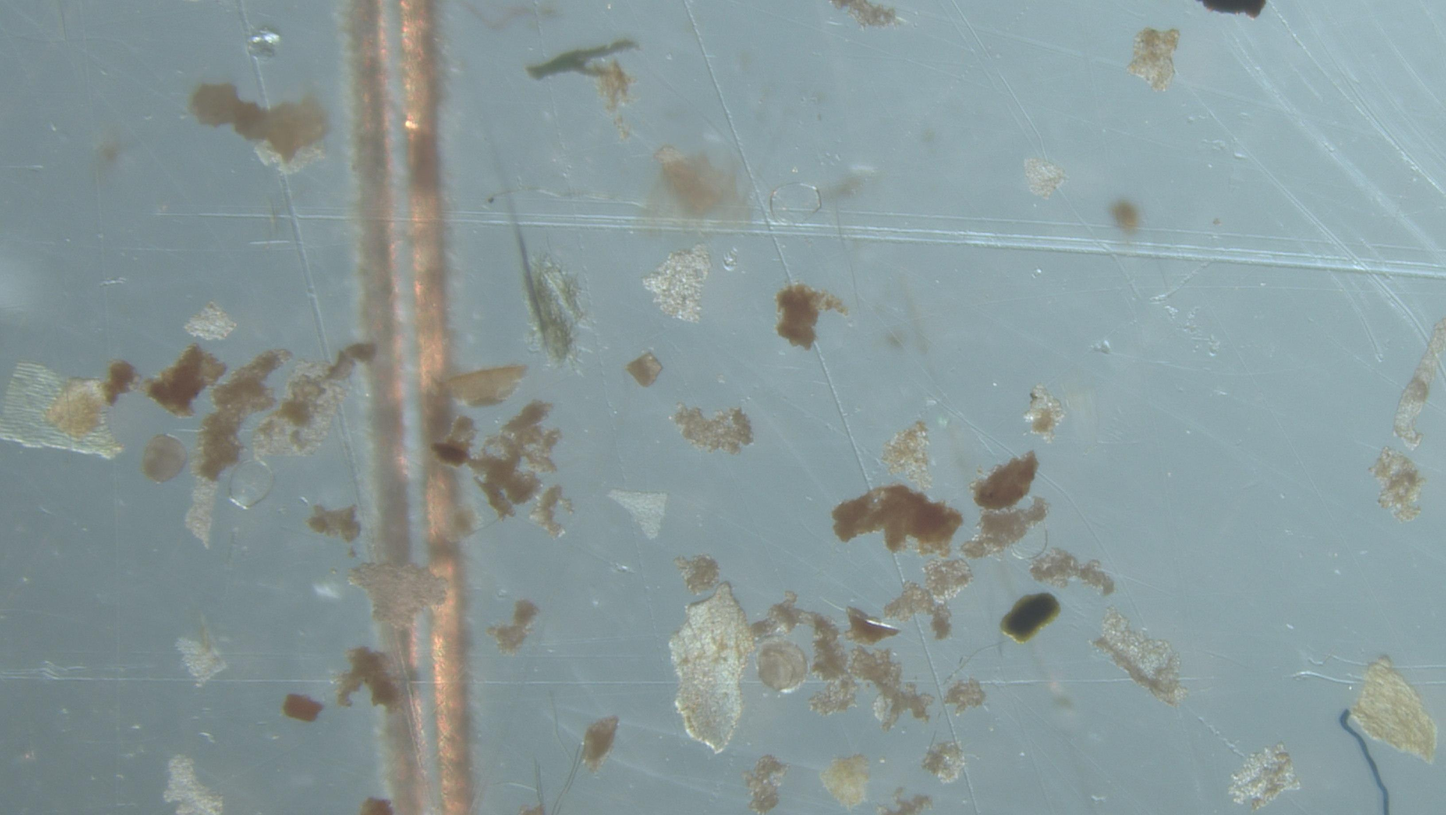dead: (229, 460, 274, 509), (770, 182, 821, 224), (1008, 527, 1049, 561)
live: (757, 640, 807, 692), (142, 434, 187, 483)
